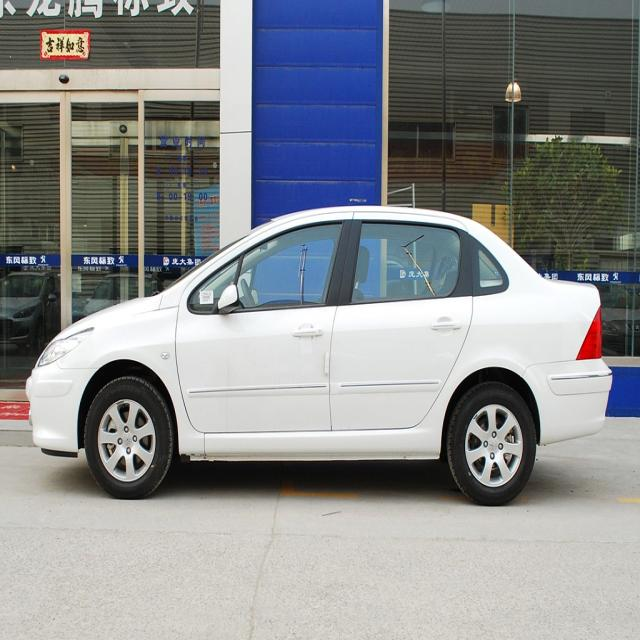back_left_side_light: (574, 304, 607, 362)
door: (334, 214, 482, 441)
front_left_side_door: (175, 211, 354, 434)
front_left_side_light: (34, 324, 94, 372)
front_left_side_mirror: (213, 282, 243, 314)
rear_bumper: (520, 358, 611, 447)
wheel: (447, 382, 535, 504), (86, 378, 172, 500)
